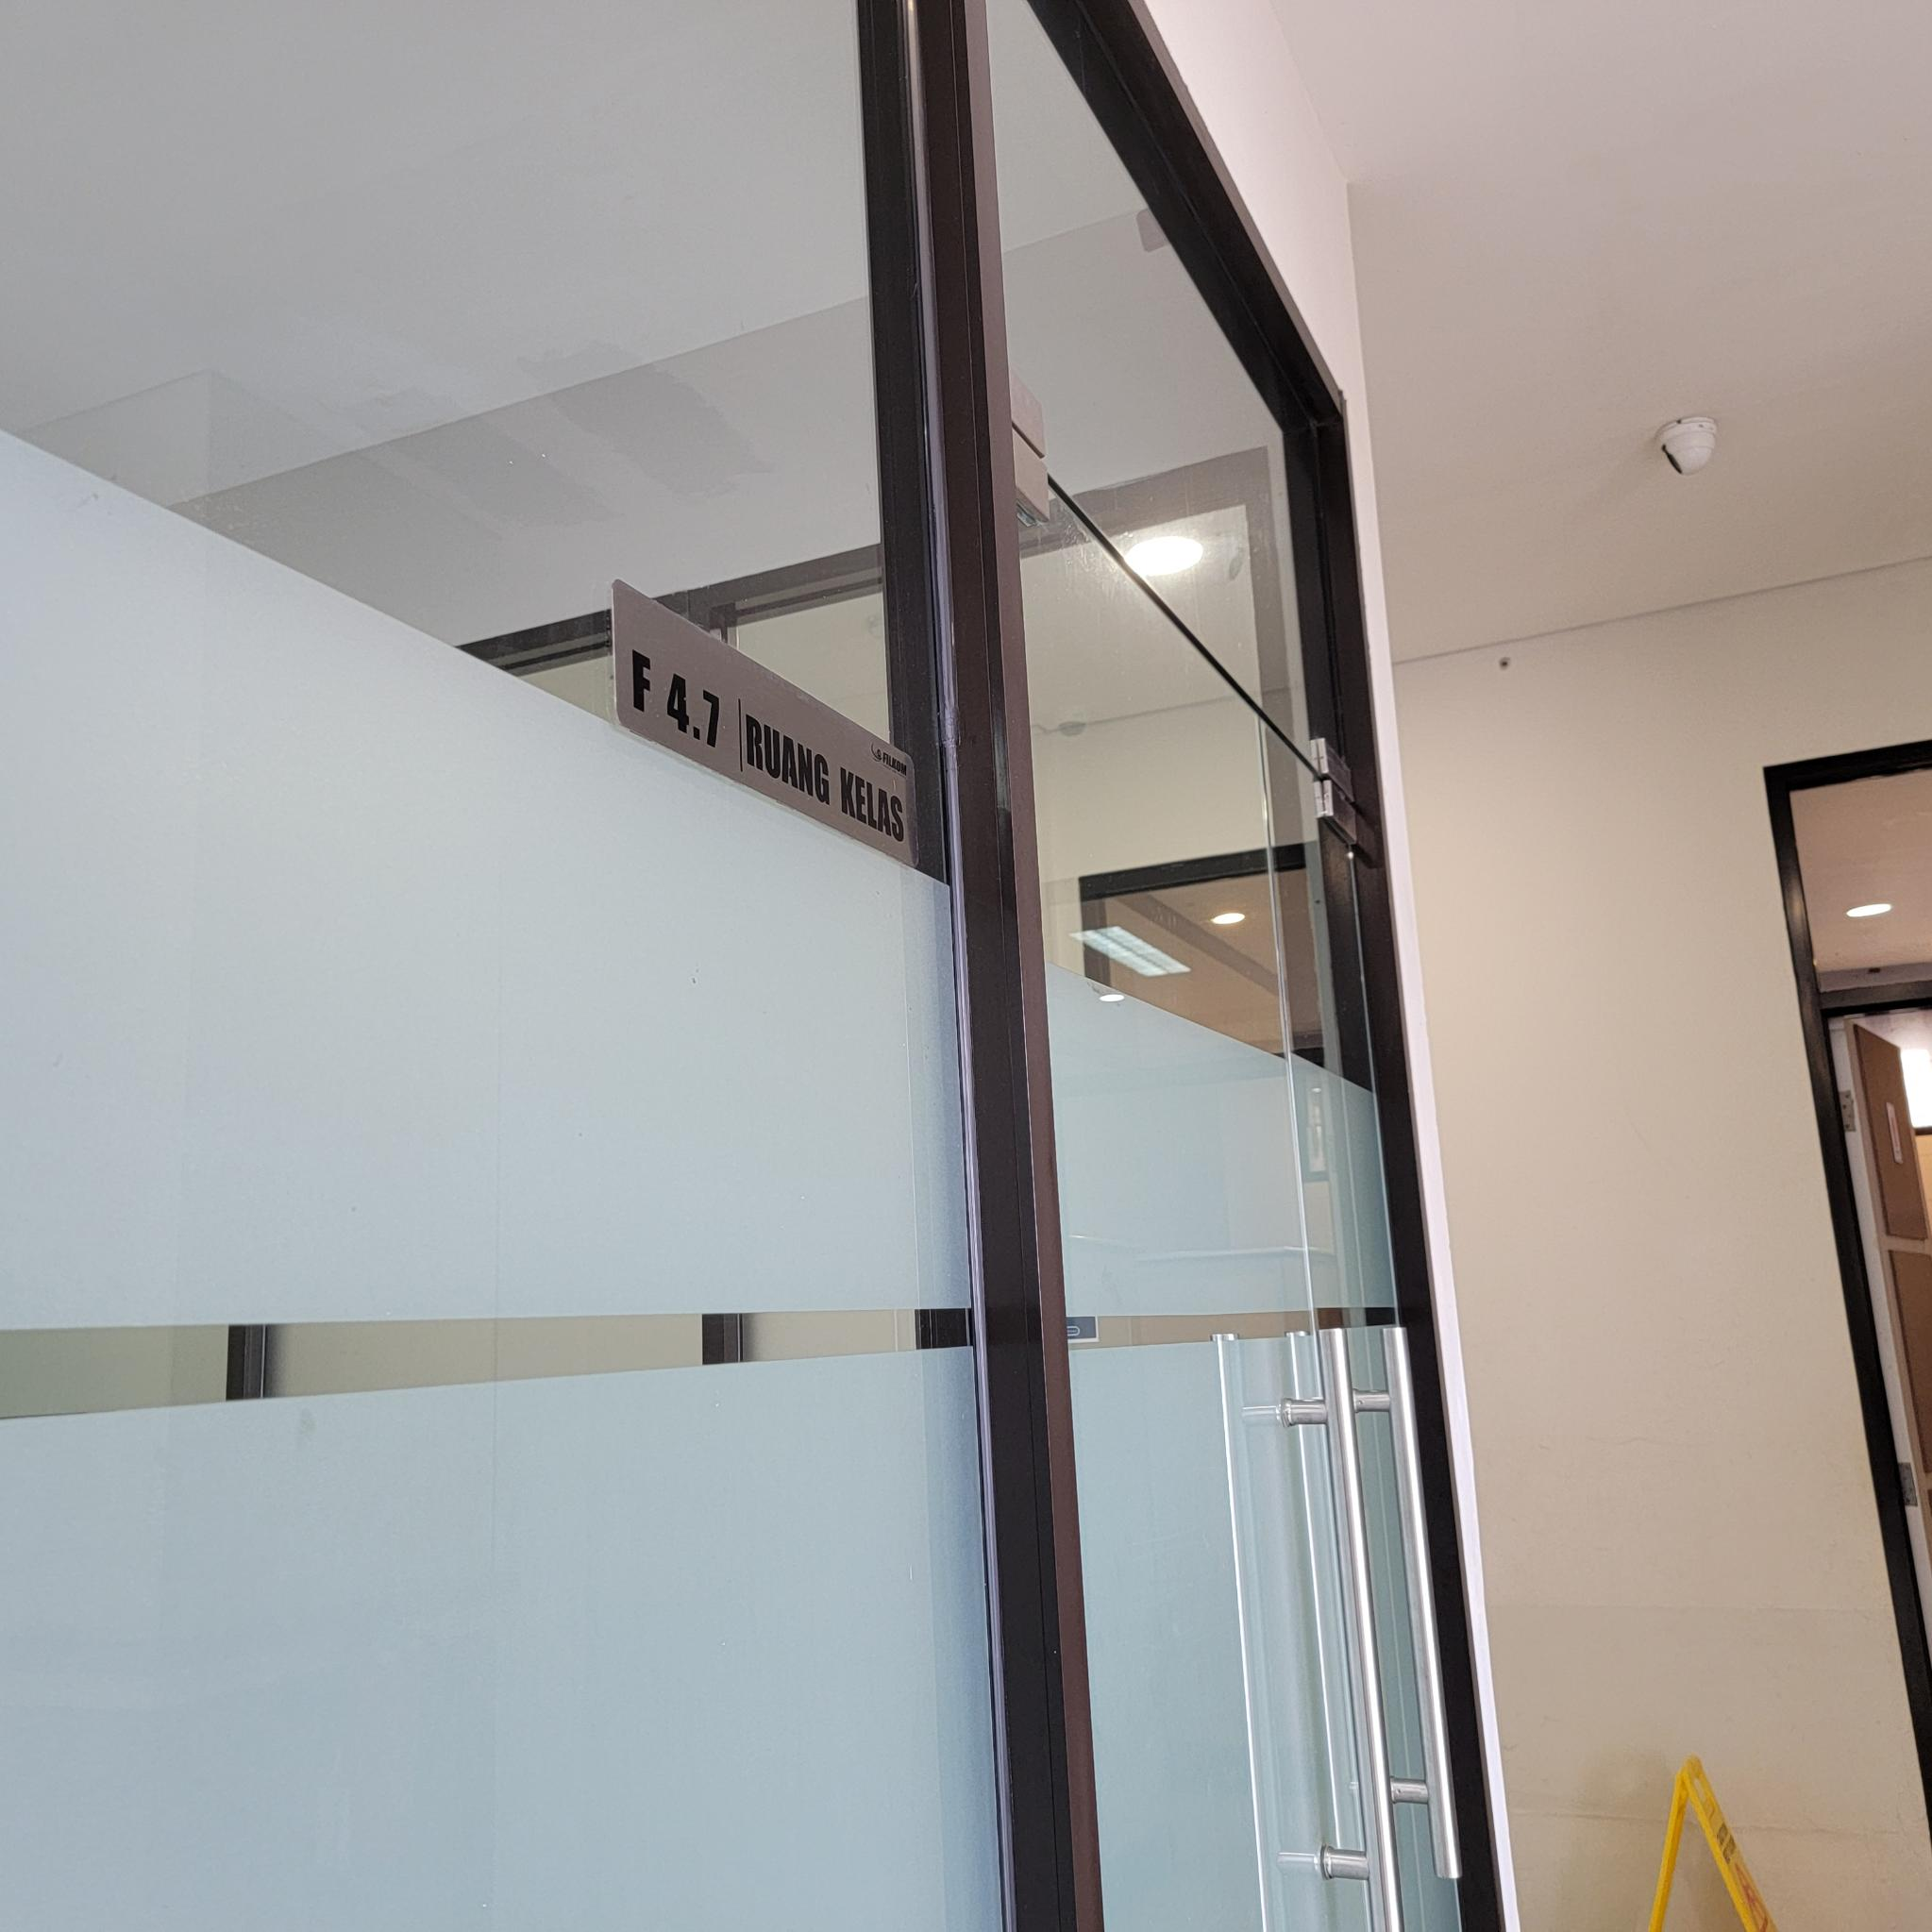plate: (612, 573, 918, 872)
